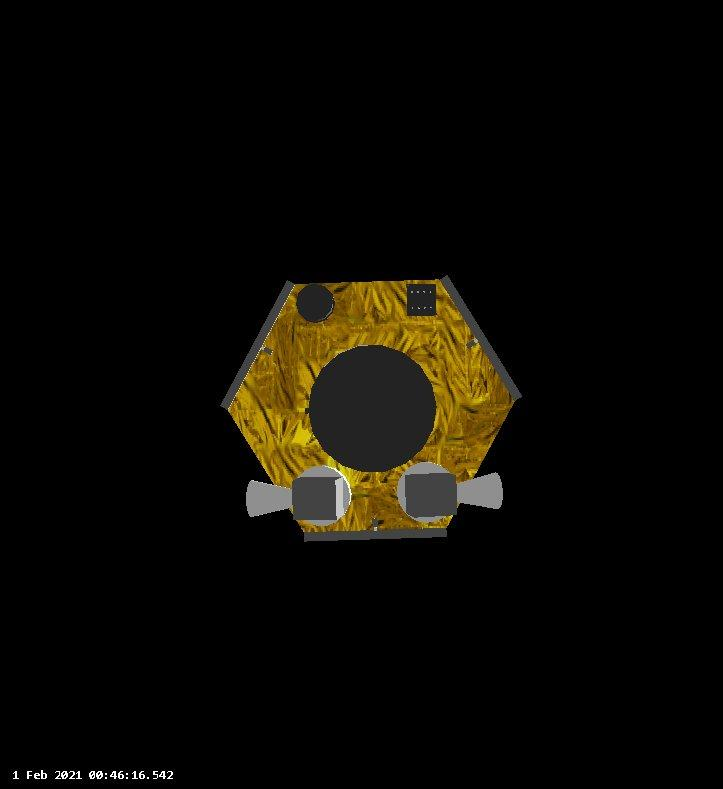antenna: (294, 283, 336, 325)
body: (219, 275, 531, 536)
thruster: (244, 476, 298, 520), (455, 471, 506, 512)
